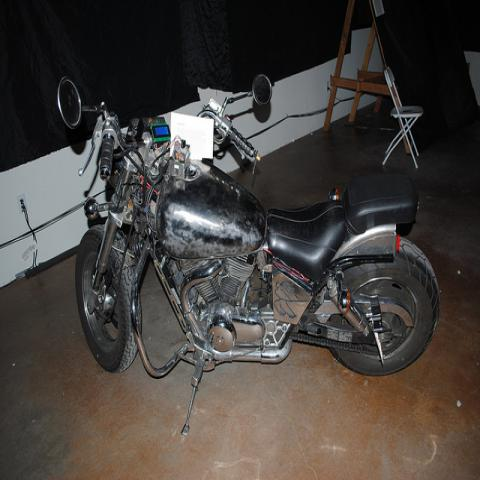motorcycle: (56, 72, 446, 438)
